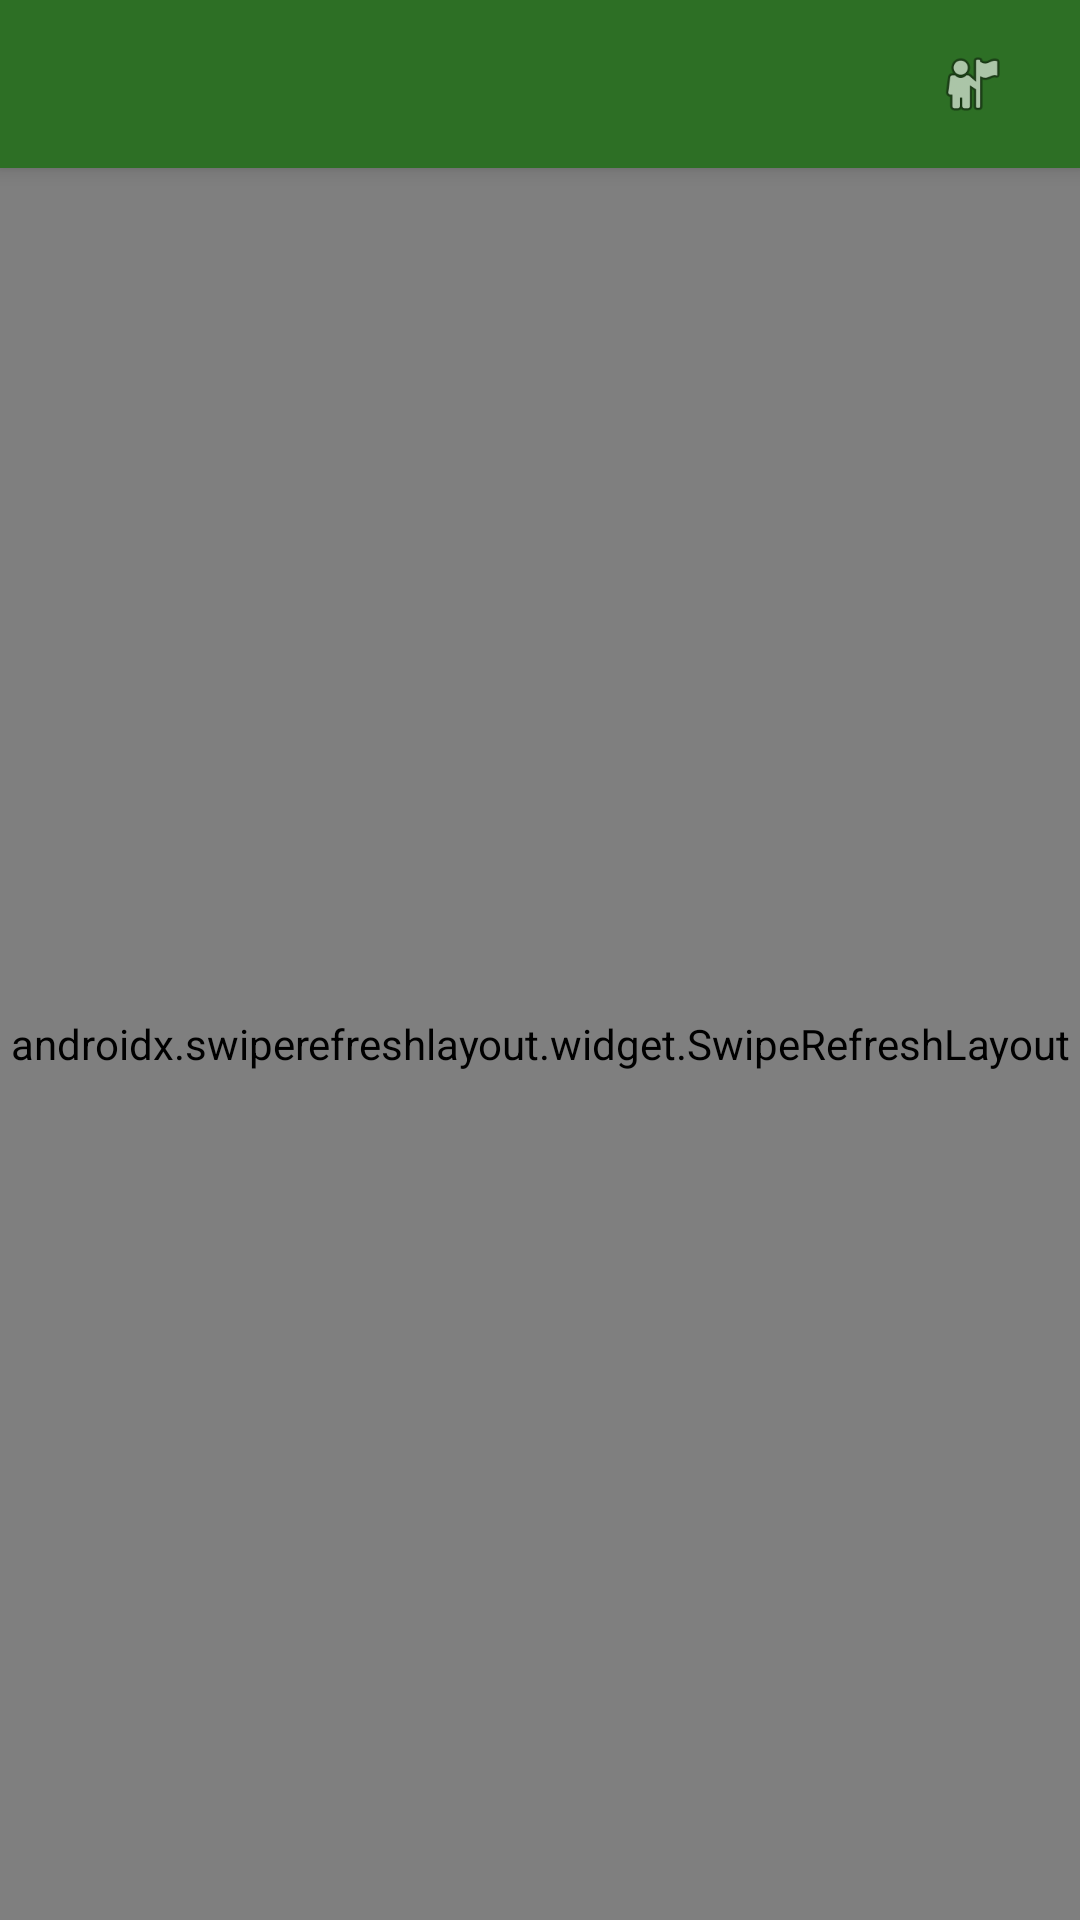

Where icons sit on this 1080w x 1920h app screen, as (x1, y1, x2, y2):
myplaces: (946, 58, 1000, 110)
